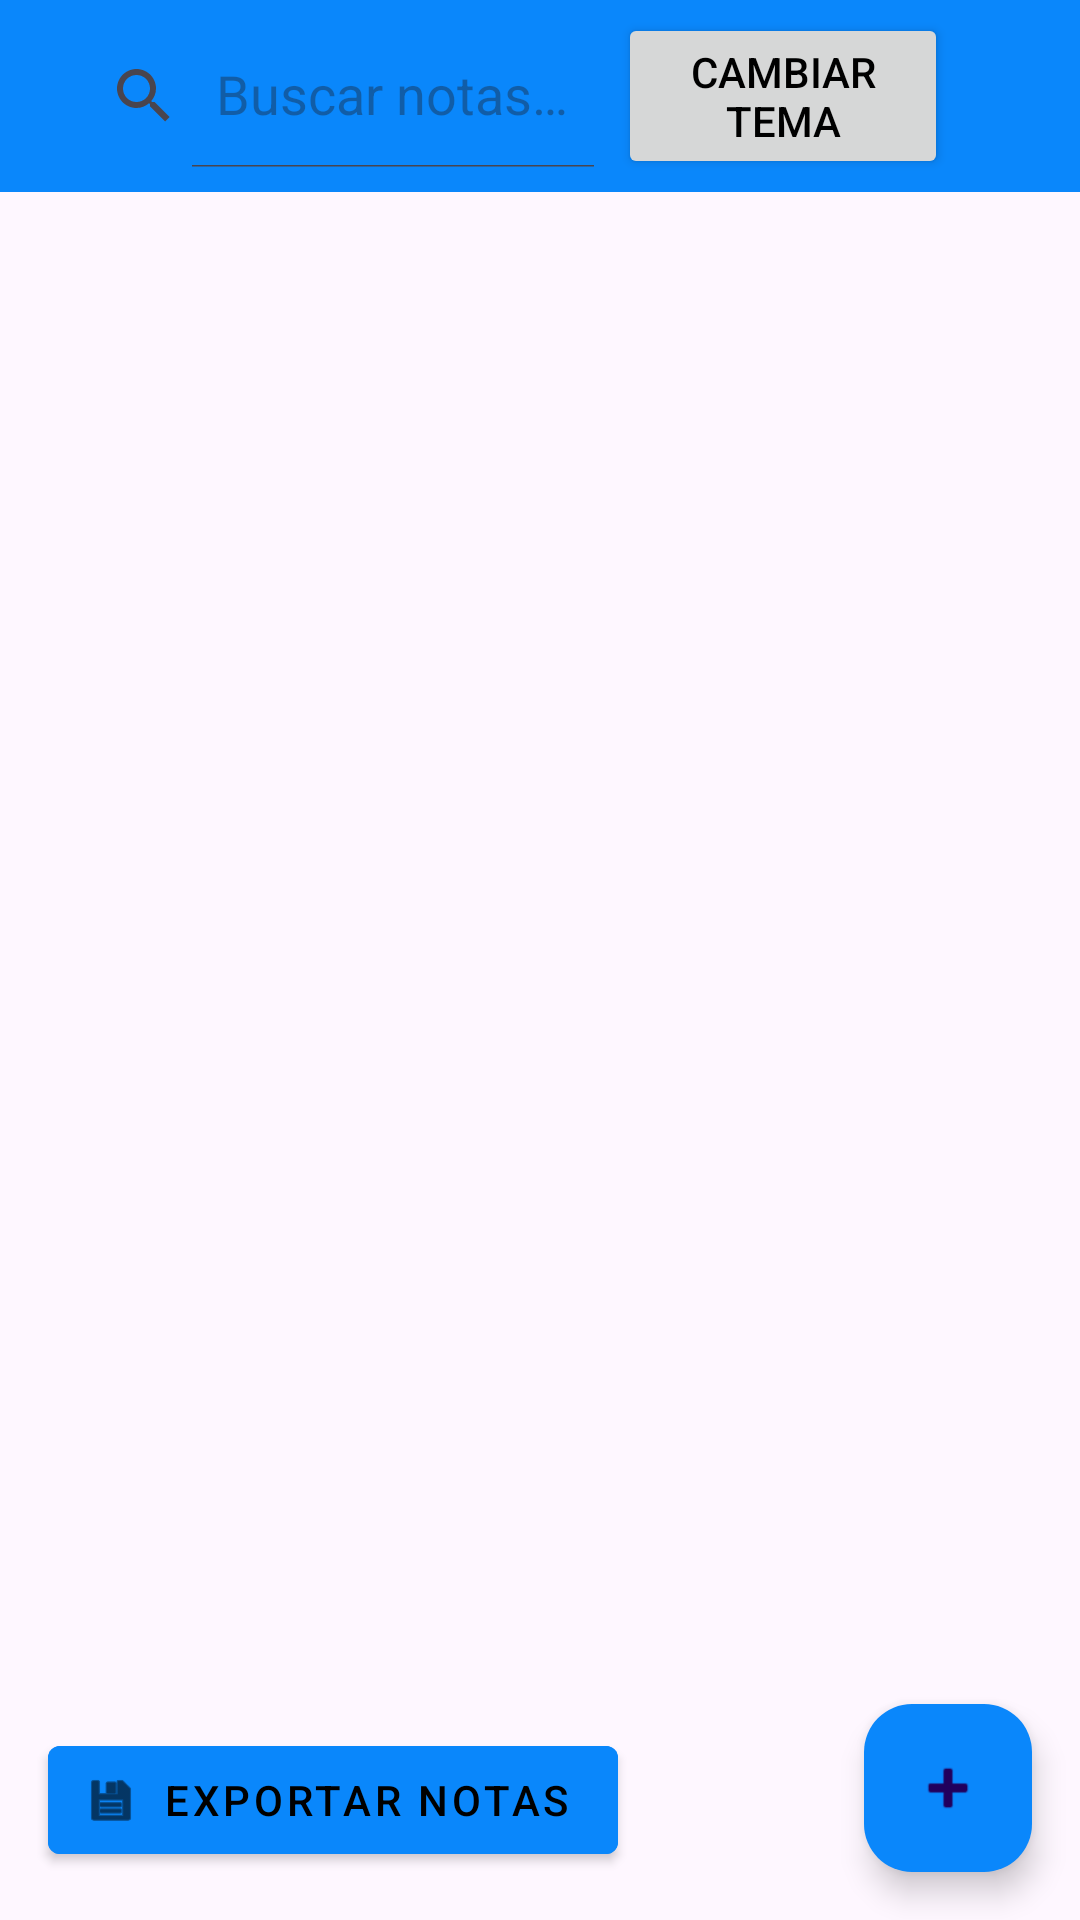

Screen size 1080x1920. Icon name, then its center in pixels as point (x, y):
Agregar nueva nota: point (948, 1788)
